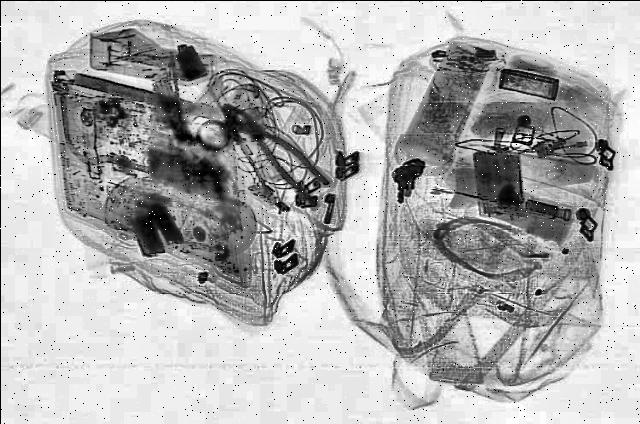Pliers: (206, 99, 336, 200)
